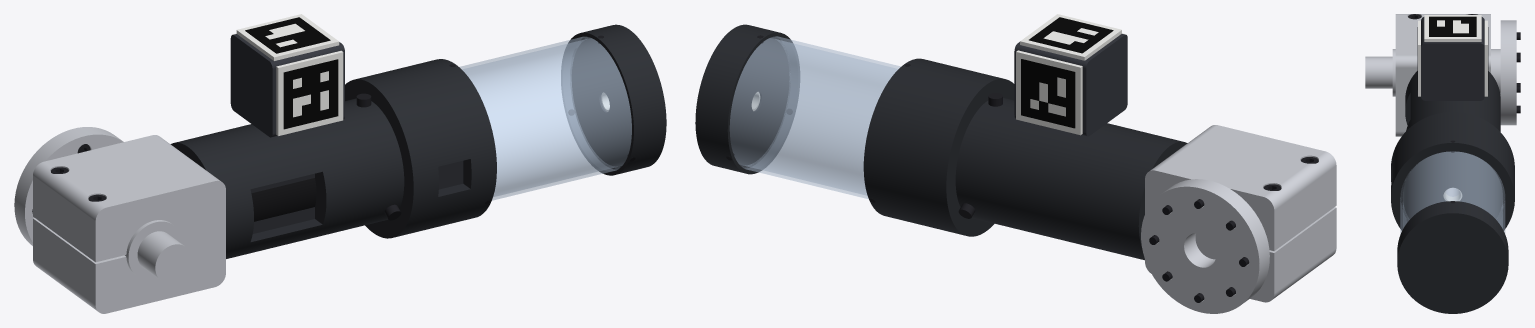
File: ARM_L5_HEAD.glb
The picture shows the model from 3 angles, left to right: view 1: azimuth 30°, elevation 25°; view 2: azimuth 150°, elevation 25°; view 3: azimuth 270°, elevation 25°; orthographic projection. The views are drawn at different scales.
Visible parts, largest first — view 1: head_clamp_block, boom_shell_printed, guard_tube_polycarbonate, rear_bearing_block_printed, nose_block_printed, head_hub_shaft, tool_marker_block_printed, tool_marker_21_ink, tool_marker_21_plate, spindle_motor_maxon_EC-i40, tool_marker_22_plate, tool_marker_22_ink; view 2: boom_shell_printed, guard_tube_polycarbonate, rear_bearing_block_printed, head_clamp_block, head_hub_shaft, nose_block_printed, tool_marker_block_printed, tool_marker_20_ink, tool_marker_20_plate, tool_marker_22_plate, tool_marker_22_ink, J5_flange_screws_M4; view 3: rear_bearing_block_printed, nose_block_printed, guard_tube_polycarbonate, tool_marker_block_printed, head_hub_shaft, head_clamp_block, boom_shell_printed, tool_marker_22_plate, tool_marker_22_ink, tool_marker_20_plate, tool_marker_21_plate, J5_flange_screws_M4 (+1 smaller).
Part boxes in pixels (x1,y1,x2,y2): head_clamp_block: [33, 135, 225, 313]; boom_shell_printed: [170, 98, 404, 258]; guard_tube_polycarbonate: [459, 36, 631, 200]; rear_bearing_block_printed: [345, 59, 496, 238]; nose_block_printed: [561, 24, 666, 175]; head_hub_shaft: [14, 127, 191, 282]; tool_marker_block_printed: [230, 34, 344, 137]; tool_marker_21_ink: [283, 59, 338, 129]; tool_marker_21_plate: [276, 50, 343, 135]; spindle_motor_maxon_EC-i40: [251, 178, 316, 221]; tool_marker_22_plate: [236, 14, 339, 60]; tool_marker_22_ink: [245, 17, 330, 53]; boom_shell_printed: [955, 98, 1187, 260]; guard_tube_polycarbonate: [729, 36, 900, 199]; rear_bearing_block_printed: [863, 58, 1014, 236]; head_clamp_block: [1145, 125, 1336, 302]; head_hub_shaft: [1141, 179, 1269, 313]; nose_block_printed: [695, 24, 799, 174]; tool_marker_block_printed: [1014, 34, 1127, 136]; tool_marker_20_ink: [1021, 59, 1075, 128]; tool_marker_20_plate: [1016, 50, 1082, 135]; tool_marker_22_plate: [1020, 14, 1121, 60]; tool_marker_22_ink: [1029, 17, 1113, 53]; J5_flange_screws_M4: [1149, 199, 1249, 302]; rear_bearing_block_printed: [1391, 112, 1514, 230]; nose_block_printed: [1397, 201, 1508, 313]; guard_tube_polycarbonate: [1400, 151, 1505, 233]; tool_marker_block_printed: [1421, 17, 1484, 100]; head_hub_shaft: [1365, 20, 1516, 125]; head_clamp_block: [1395, 14, 1490, 136]; boom_shell_printed: [1405, 71, 1500, 131]; tool_marker_22_plate: [1424, 15, 1481, 41]; tool_marker_22_ink: [1429, 16, 1476, 36]; tool_marker_20_plate: [1484, 20, 1487, 96]; tool_marker_21_plate: [1418, 20, 1420, 96]; J5_flange_screws_M4: [1516, 32, 1520, 113].
Size of the model in its own units: 317 by 115 by 97.5.
